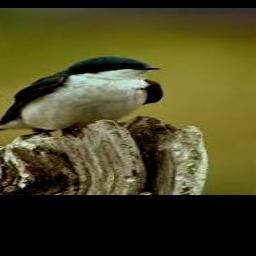Swallow: (0, 56, 162, 135)
